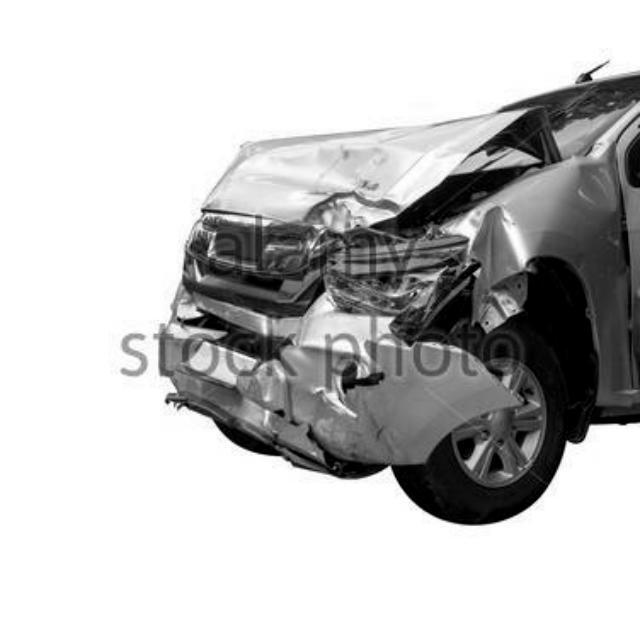bonnet-dent: (196, 120, 531, 234)
fender-dent: (495, 173, 631, 418)
front-bumper-dent: (122, 307, 513, 455)
